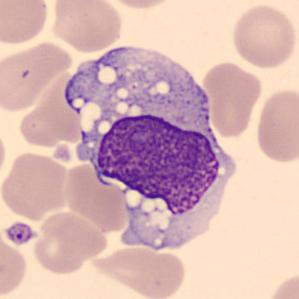Monocyte: (64, 34, 242, 247)
Platelets: (2, 220, 40, 246)
RBC: (88, 243, 188, 299), (0, 38, 73, 113), (30, 209, 108, 276), (0, 149, 71, 221), (201, 60, 264, 140), (229, 1, 298, 70), (48, 0, 125, 54), (253, 86, 298, 166), (16, 98, 79, 149), (0, 0, 51, 46), (0, 233, 30, 298), (263, 269, 299, 299), (102, 0, 178, 11), (0, 124, 8, 184)
